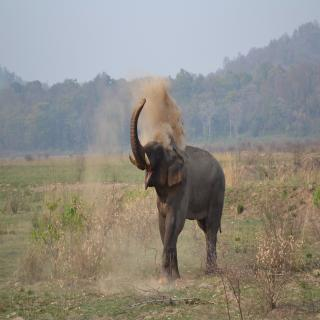Elephant: (125, 93, 229, 285)
